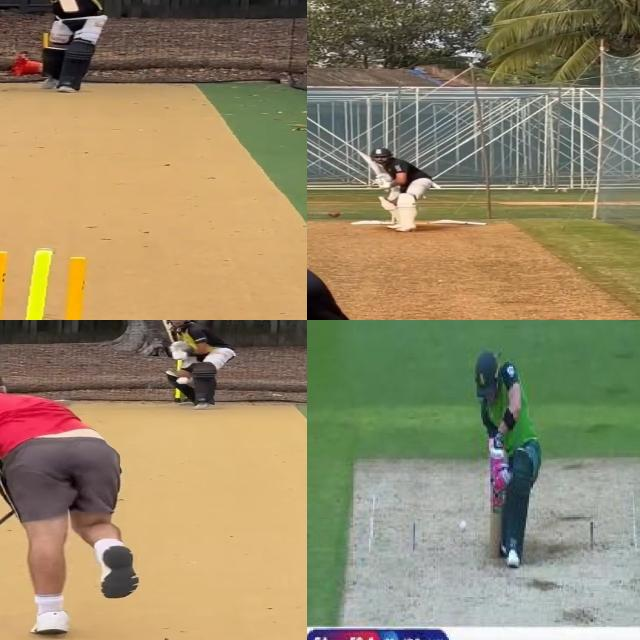Cricket ball: (176, 374, 194, 388), (460, 519, 470, 534), (327, 211, 341, 218)
Stumps: (0, 246, 108, 320)
